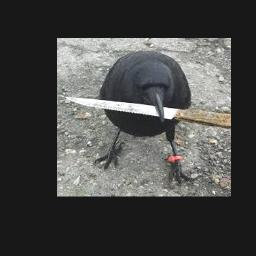Crow: (93, 50, 195, 185)
